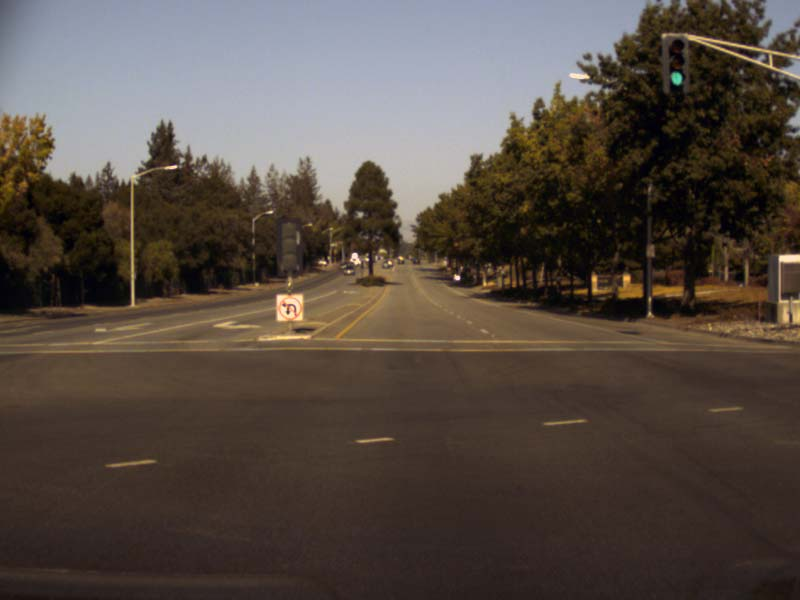Green: (668, 39, 686, 89)
